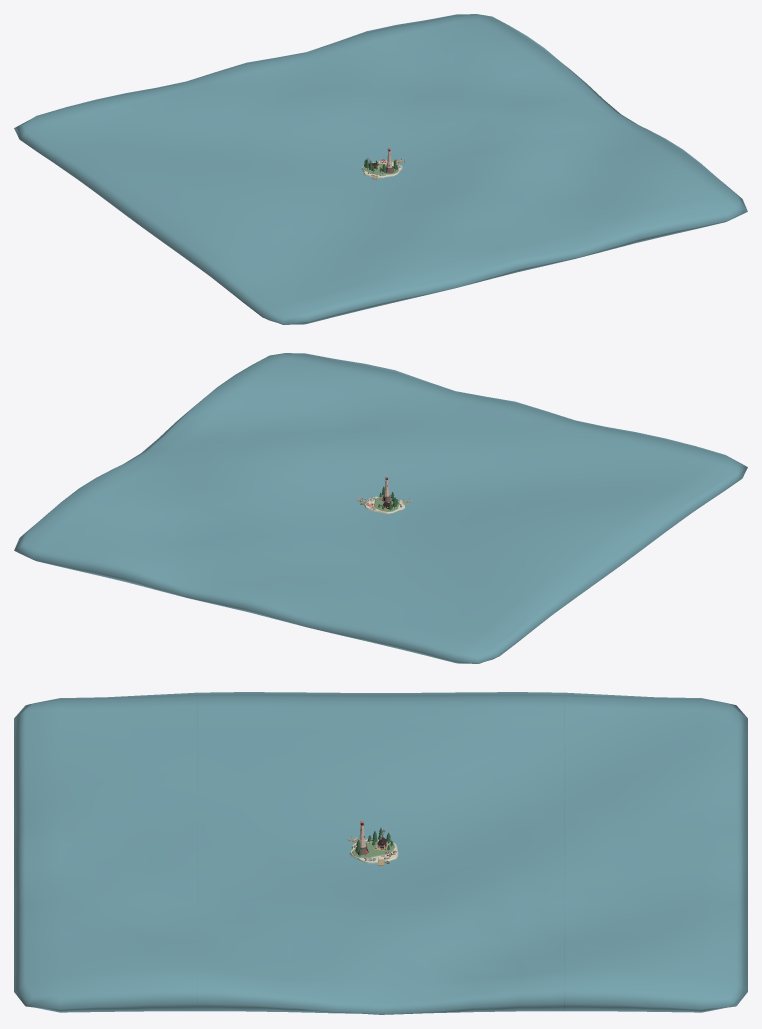
Rendered from mayak.fbx.
The picture shows the model from 3 angles, top to bottom: view 1: azimuth 30°, elevation 25°; view 2: azimuth 150°, elevation 25°; view 3: azimuth 270°, elevation 25°; orthographic projection. The views are drawn at different scales.
Visible parts, largest first — view 1: pCube155; view 2: pCube155; view 3: pCube155.
Part boxes in pixels (x1,y1,x2,y2): pCube155: (14,14,747,324); pCube155: (14,353,747,663); pCube155: (14,692,747,1014).
Bounding box in the file's own units: 520 × 34.79 × 520.
